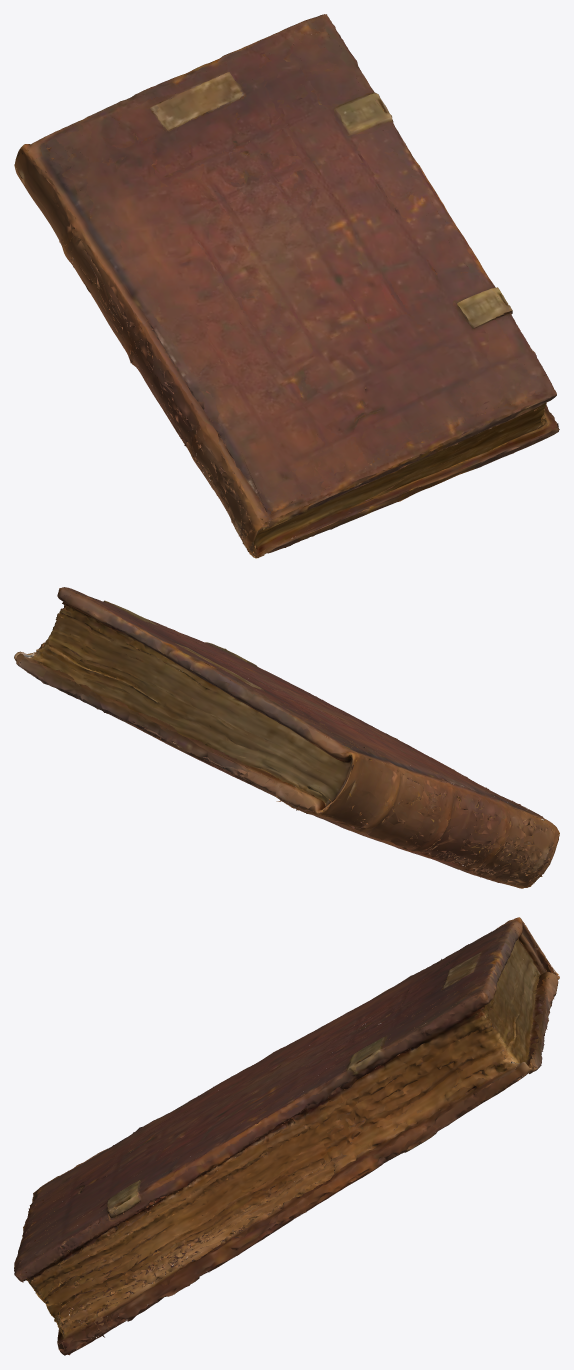
File: graduale.glb
The picture shows the model from 3 angles, top to bottom: view 1: azimuth 30°, elevation 25°; view 2: azimuth 150°, elevation 25°; view 3: azimuth 270°, elevation 25°; orthographic projection. The views are drawn at different scales.
Visible parts, largest first — view 1: Object_2, Object_3; view 2: Object_2, Object_3; view 3: Object_2, Object_3.
Boxes of the visible parts, x1,y1,x2,y2 form: Object_2: (14, 14, 557, 555); Object_3: (14, 67, 559, 558); Object_2: (14, 587, 553, 878); Object_3: (16, 631, 559, 888); Object_2: (14, 917, 553, 1344); Object_3: (19, 931, 559, 1355).
Bounding box in the file's own units: 0.3288 × 0.3224 × 0.3999.
Materials: 1 (1 with a texture image).
